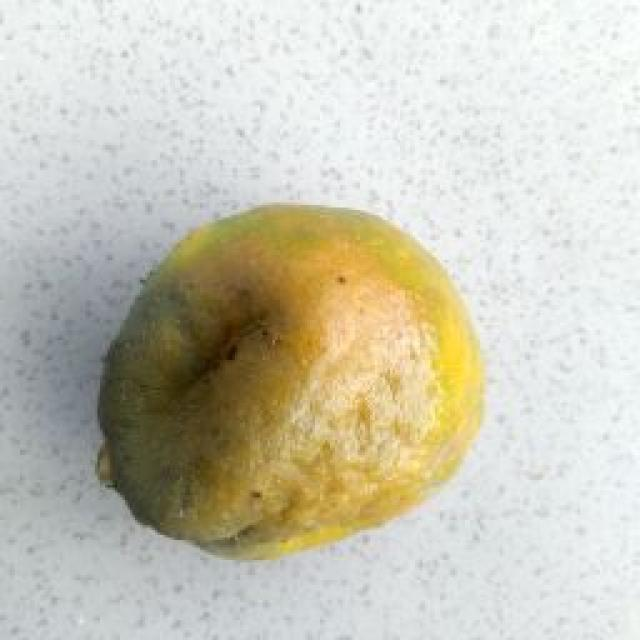Bad_Orange: (101, 204, 482, 558)
